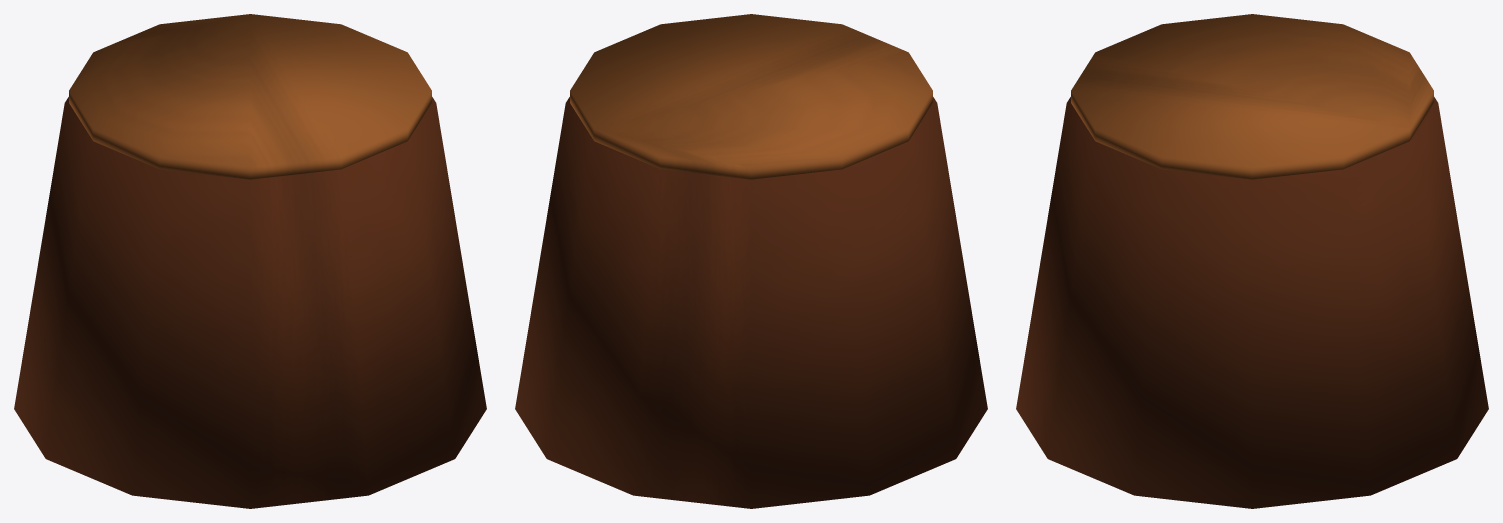
The model's file is Stump.fbx.
3 renders of one model, left to right at view 1: azimuth 30°, elevation 25°; view 2: azimuth 150°, elevation 25°; view 3: azimuth 270°, elevation 25°, orthographic.
Visible parts, largest first — view 1: Stump; view 2: Stump; view 3: Stump.
Boxes of the visible parts, bbox=[...] form: Stump: bbox=[14, 14, 486, 508]; Stump: bbox=[515, 14, 987, 508]; Stump: bbox=[1016, 14, 1488, 508].
Size of the model in its own units: 56 by 41.6 by 56.
1 material, 1 textured.
